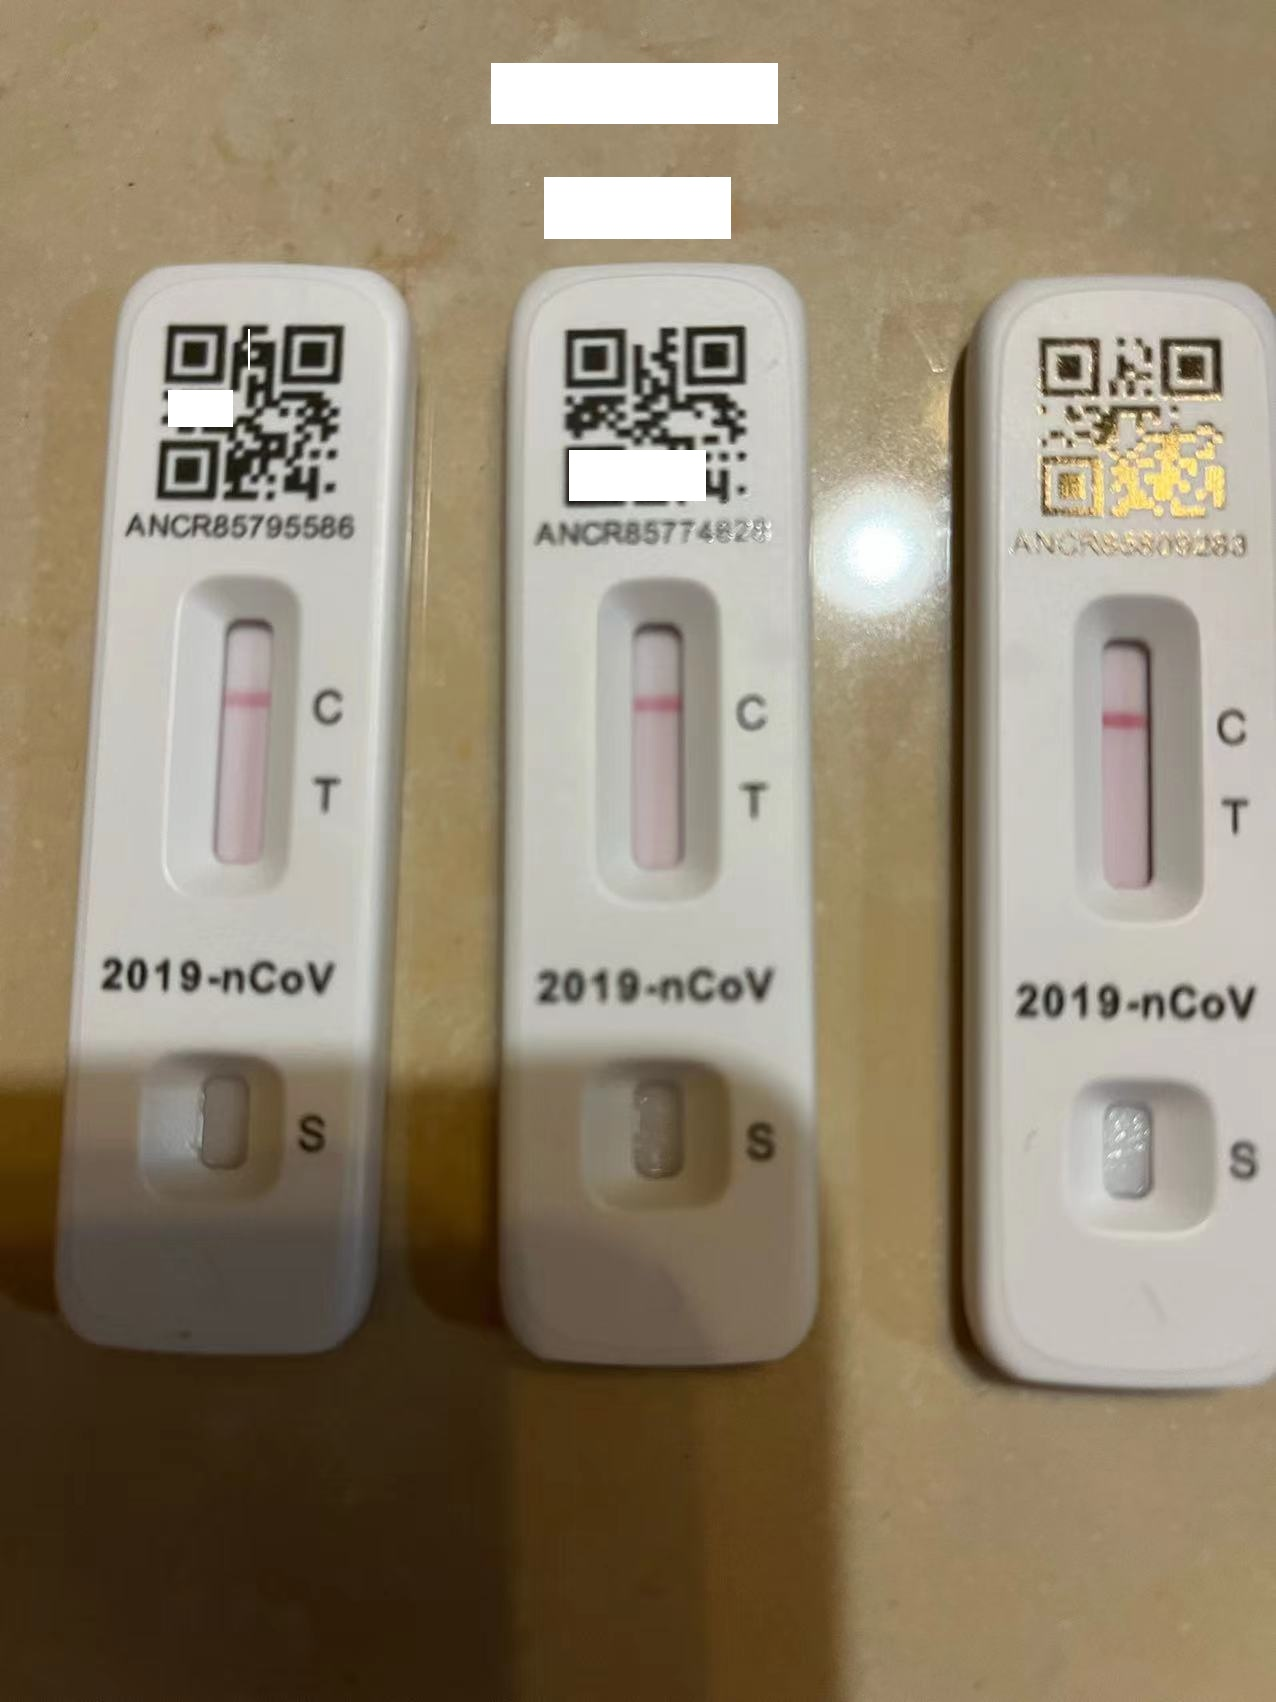negative: (172, 574, 302, 907), (1074, 600, 1198, 939), (592, 578, 718, 911)
